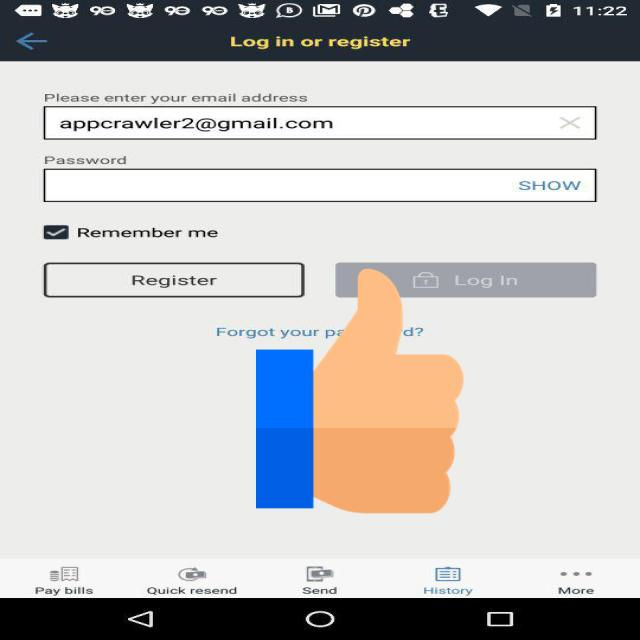privacy zuckering: (256, 263, 463, 519)
